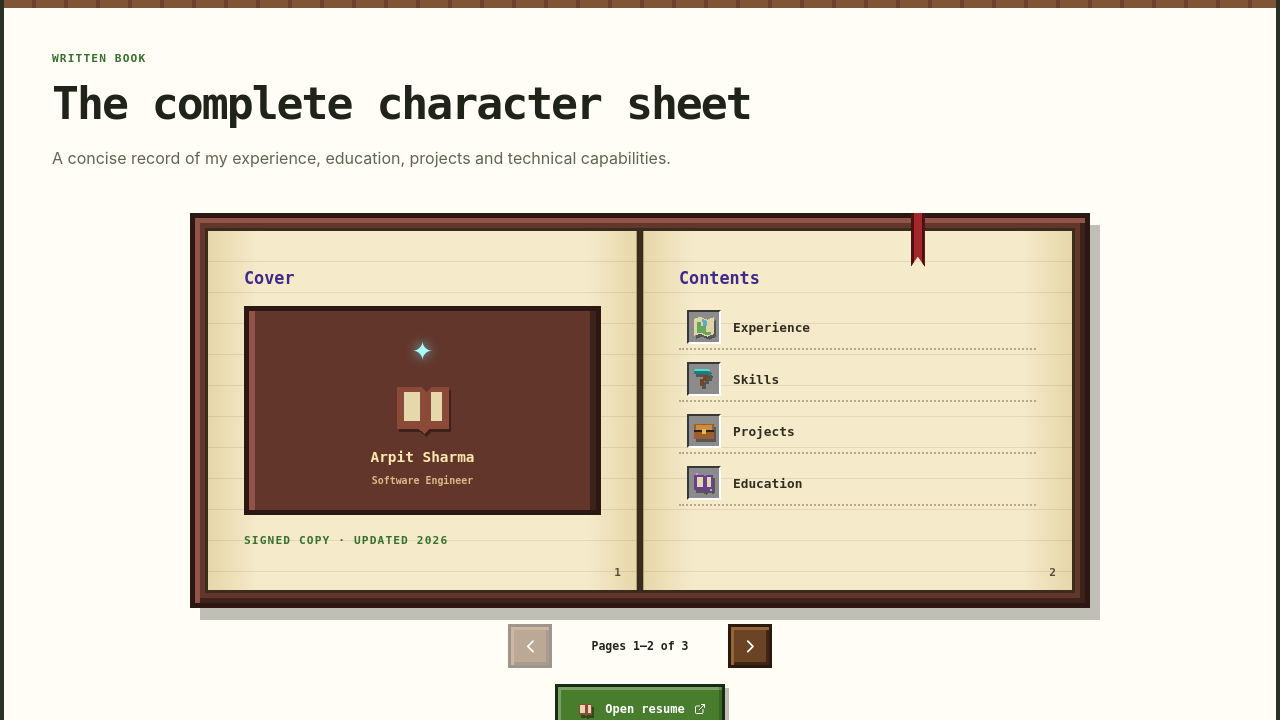
Scenario: Resume written book (two-page spread) › shows pages in pairs and turns a whole spread at a time
expect the text "Pages 1–2 of 3" is shown: met, box 592,639 -> 689,653
Step 1. Click the button named "Next page" → (750, 646), box 728,624 -> 772,668
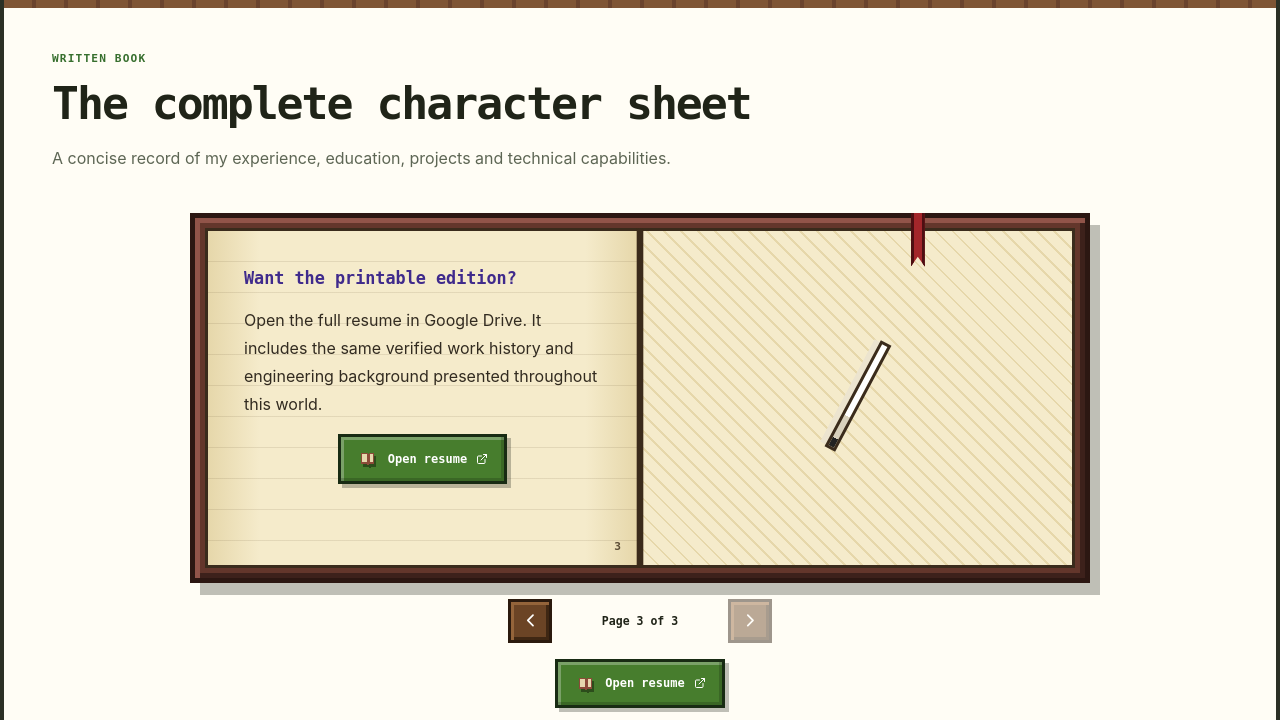
expect the text "Page 3 of 3" is shown: met, box 602,614 -> 678,628
